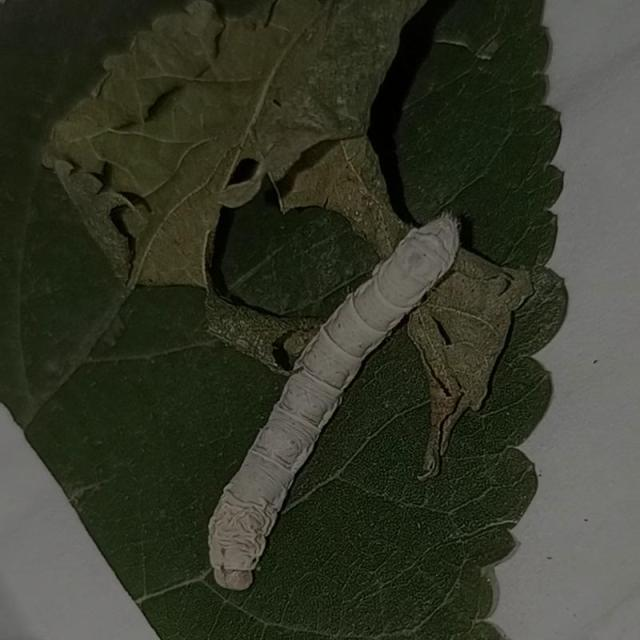Healthy: (176, 177, 504, 620)
